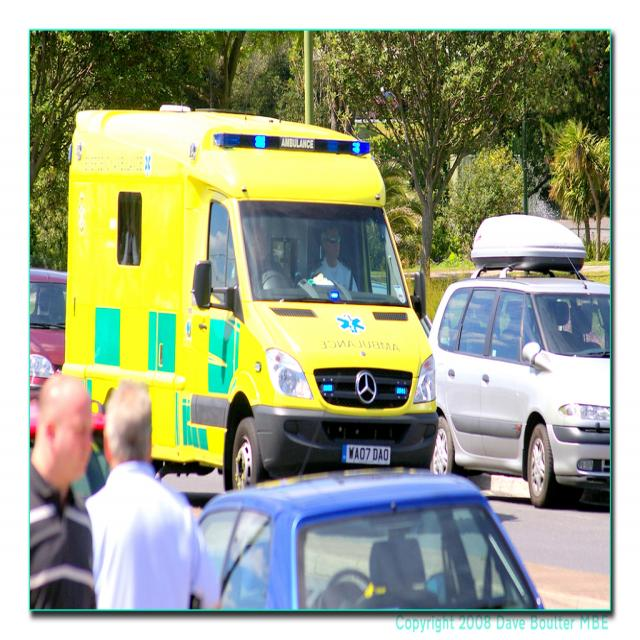Ambulance: (64, 108, 441, 494)
